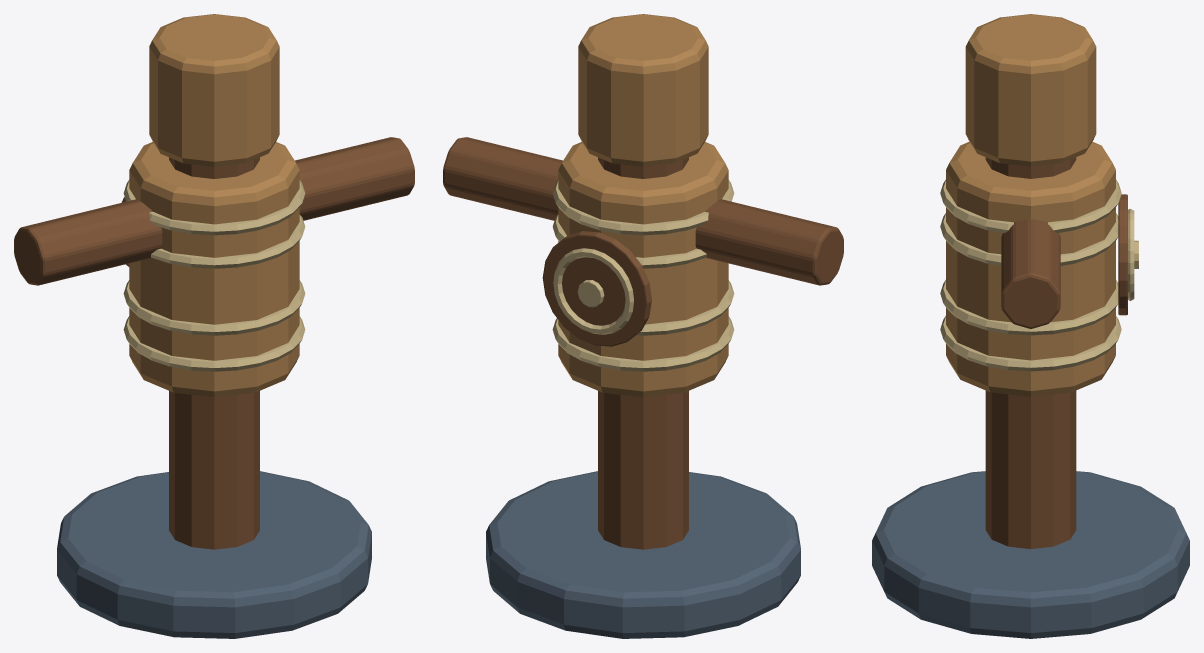
File: TrainingDummy_01.fbx
3 renders of one model, left to right at view 1: azimuth 30°, elevation 25°; view 2: azimuth 150°, elevation 25°; view 3: azimuth 270°, elevation 25°, orthographic.
Parts seen in each view (by area): view 1: TrainingDummy_01; view 2: TrainingDummy_01; view 3: TrainingDummy_01.
Boxes of the visible parts, bbox=[...] form: TrainingDummy_01: bbox=[14, 14, 414, 638]; TrainingDummy_01: bbox=[443, 14, 843, 638]; TrainingDummy_01: bbox=[872, 14, 1189, 638].
Bounding box in the file's own units: 1.52 × 2.09 × 1.12.
